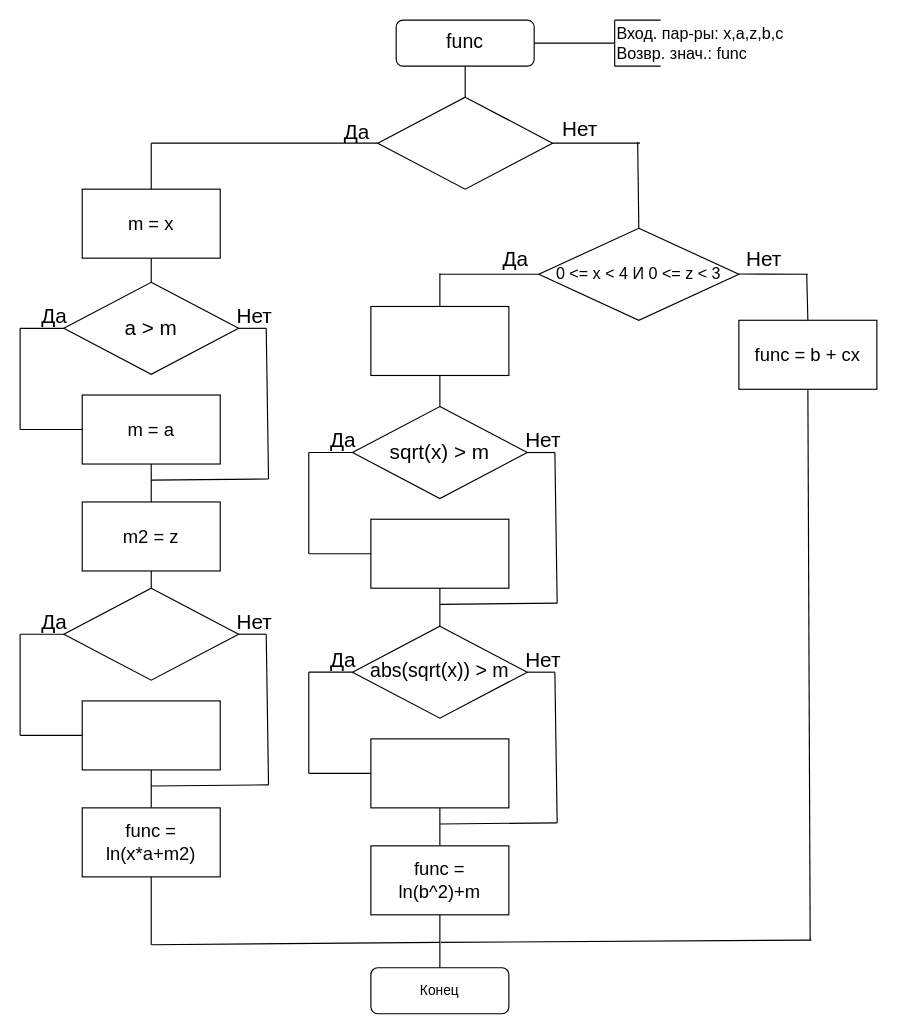
This 897x1034 diagram has some shape labels left out. The shapes that lost their labels are listed below. From the top down, each one's centre as x and y in pixels, then its label:
(465,142): x < 0 И z < 0
(439,340): m = z
(439,553): m = sqrt(x)
(151,633): x*a^m < m2
(150,735): m2 = x*a^m
(439,773): m = abs(sqrt(x))
